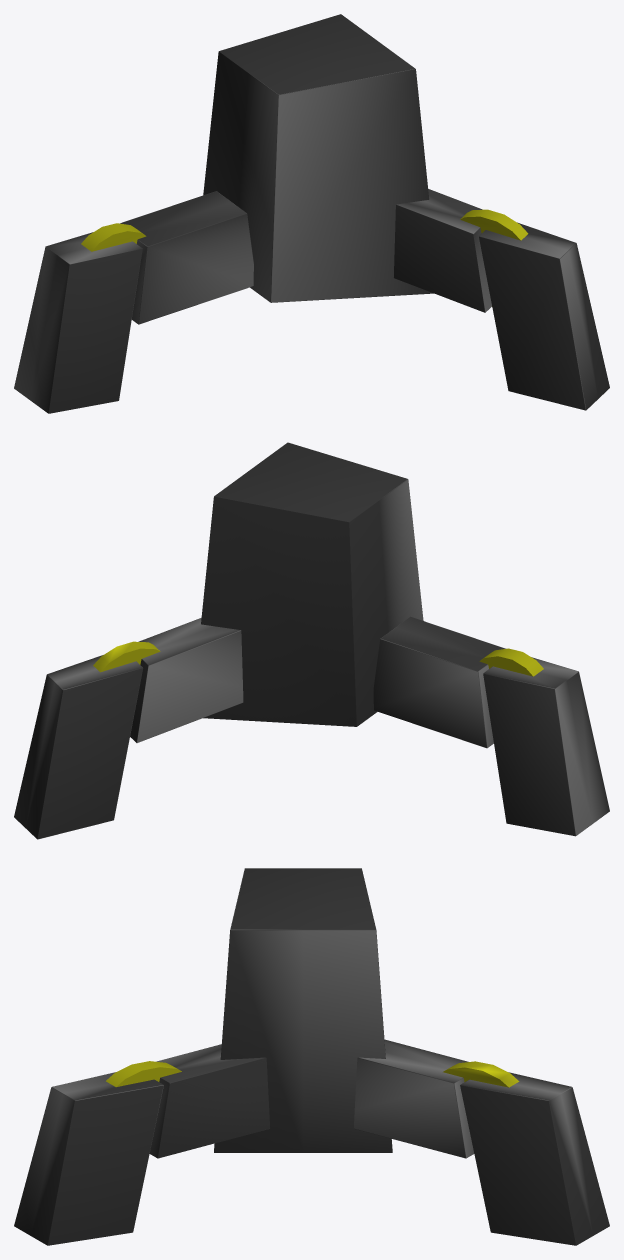
The model's file is turretStand.fbx.
3 renders of one model, top to bottom at view 1: azimuth 30°, elevation 25°; view 2: azimuth 150°, elevation 25°; view 3: azimuth 270°, elevation 25°, orthographic. The views are drawn at different scales.
Visible parts, largest first — view 1: Box003; view 2: Box003; view 3: Box003.
Part boxes in pixels (x1,y1,x2,y2): Box003: [14, 14, 609, 413]; Box003: [14, 442, 609, 839]; Box003: [14, 868, 609, 1245].
Size of the model in its own units: 56.3 by 33.07 by 66.59.
